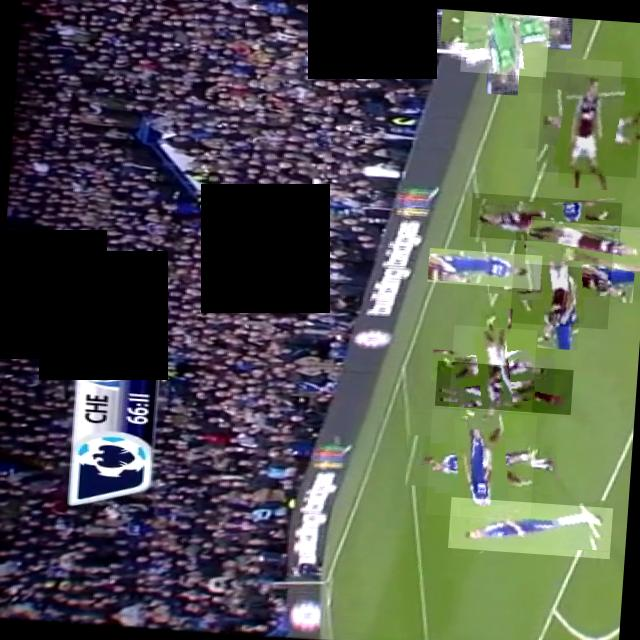goalkeeper: (460, 9, 550, 76)
soccer-player: (425, 407, 537, 520), (536, 70, 640, 177), (509, 225, 614, 328), (448, 496, 612, 558), (469, 192, 622, 246), (448, 323, 537, 412), (434, 359, 574, 414), (524, 218, 640, 270), (427, 246, 542, 288)
